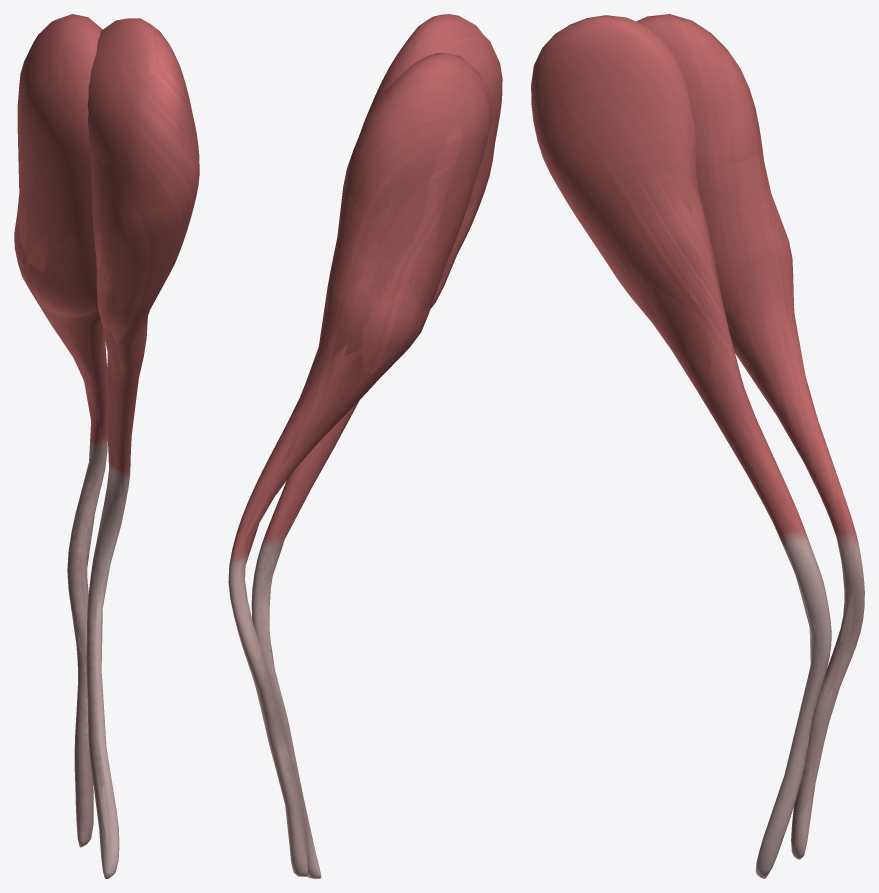
Rendered from Икроножная мышца R.fbx.
The picture shows the model from 3 angles, left to right: view 1: azimuth 30°, elevation 25°; view 2: azimuth 150°, elevation 25°; view 3: azimuth 270°, elevation 25°; orthographic projection. The views are drawn at different scales.
Parts seen in each view (by area): view 1: Икроножная мышца R, Икроножная мышца R high, Икроножная мышца R low; view 2: Икроножная мышца R, Икроножная мышца R high, Икроножная мышца R low; view 3: Икроножная мышца R high, Икроножная мышца R, Икроножная мышца R low.
Boxes of the visible parts, left/top/right/bottom form: Икроножная мышца R: left=14, top=14, right=199, bottom=878; Икроножная мышца R high: left=16, top=14, right=199, bottom=878; Икроножная мышца R low: left=17, top=20, right=192, bottom=873; Икроножная мышца R: left=228, top=14, right=502, bottom=878; Икроножная мышца R high: left=228, top=15, right=502, bottom=878; Икроножная мышца R low: left=238, top=35, right=499, bottom=878; Икроножная мышца R high: left=531, top=15, right=864, bottom=877; Икроножная мышца R: left=531, top=14, right=864, bottom=878; Икроножная мышца R low: left=547, top=16, right=854, bottom=811.
Bounding box in the file's own units: 0.2009 × 1.01 × 0.3669.
